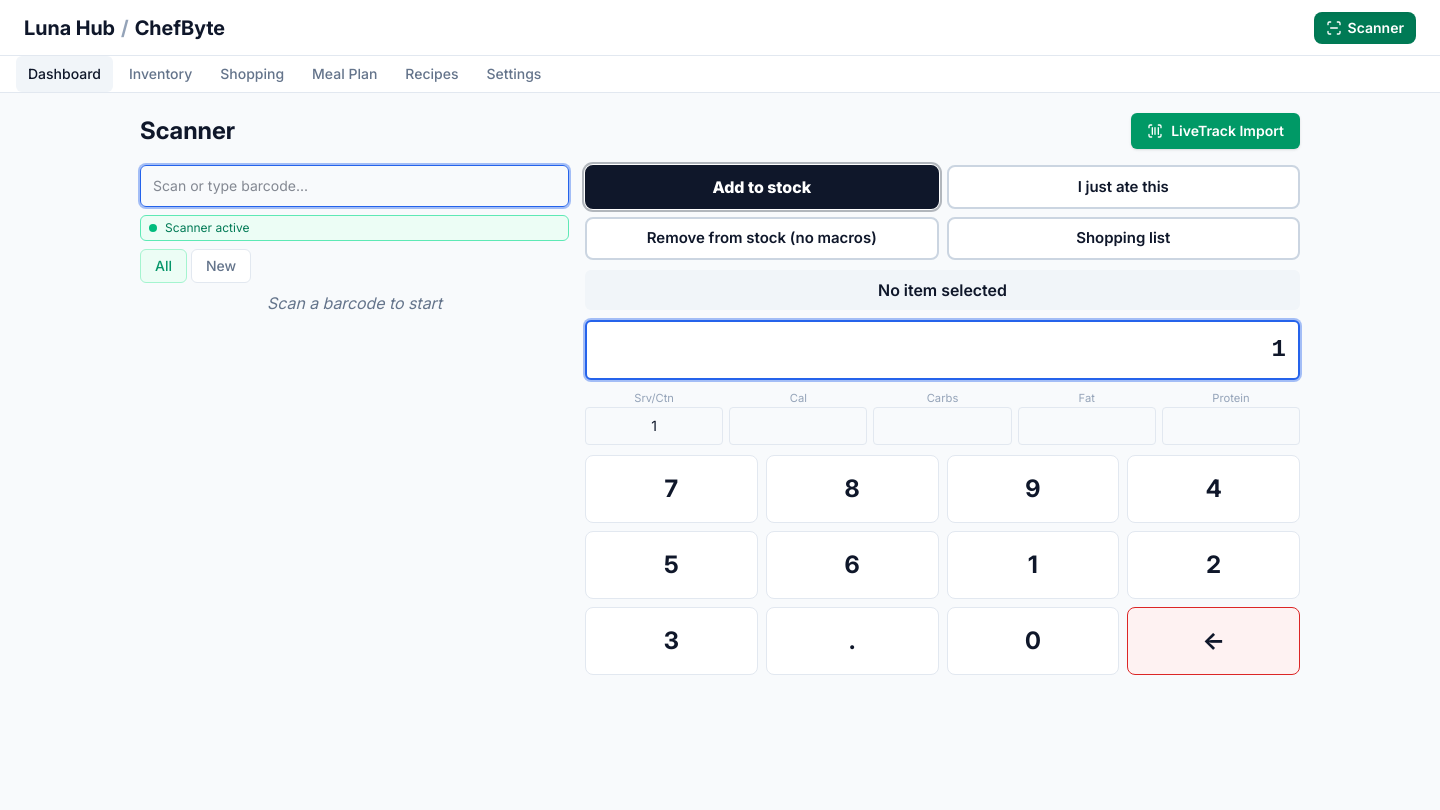
Scanner — first-scan location-race (Bug A) › scan after locations resolve picks up locationId via re-memoized useCallback
Step 1. Type "856312002795" into the field with test id "barcode-input" → (354, 186), box [140,165,569,207]
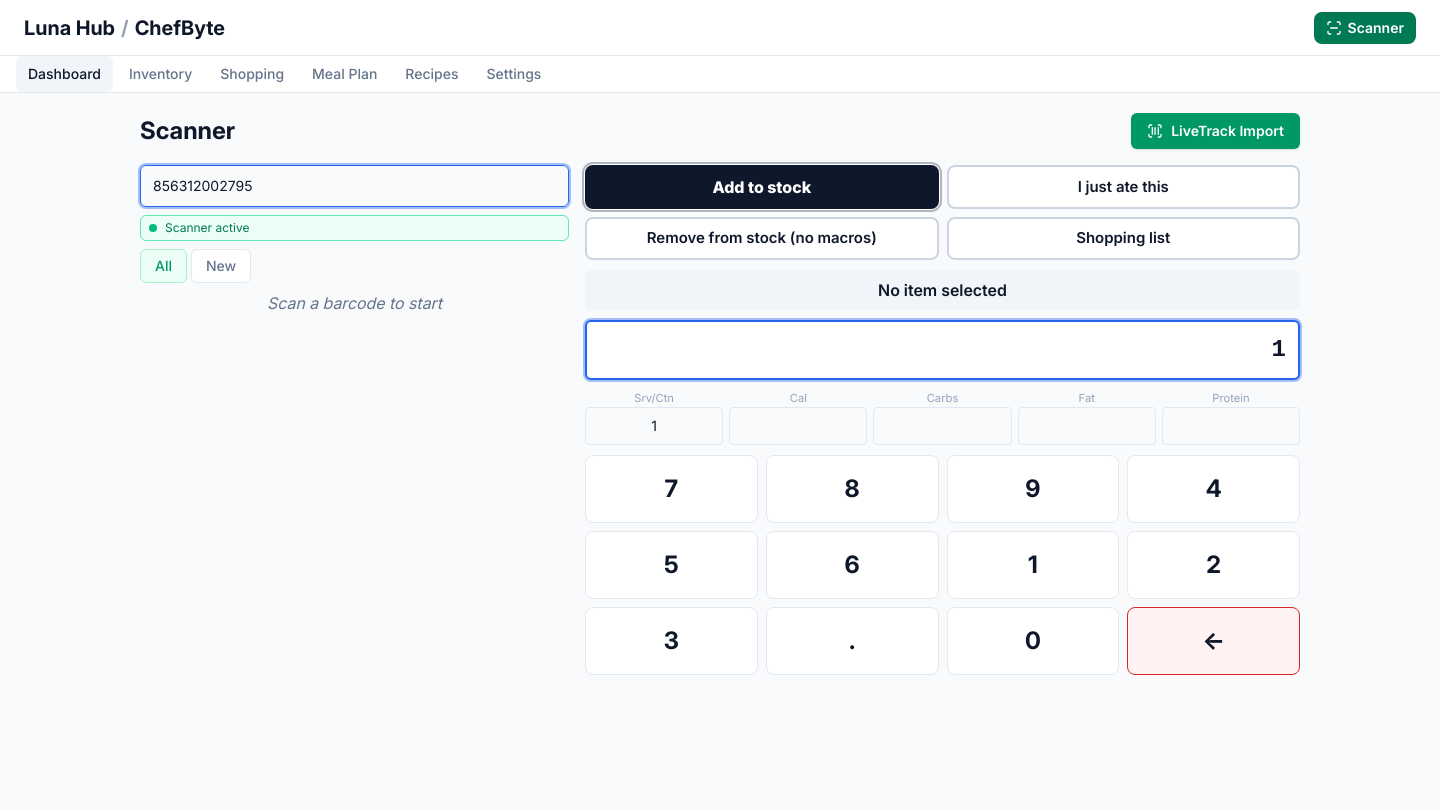
Step 2. Press Enter
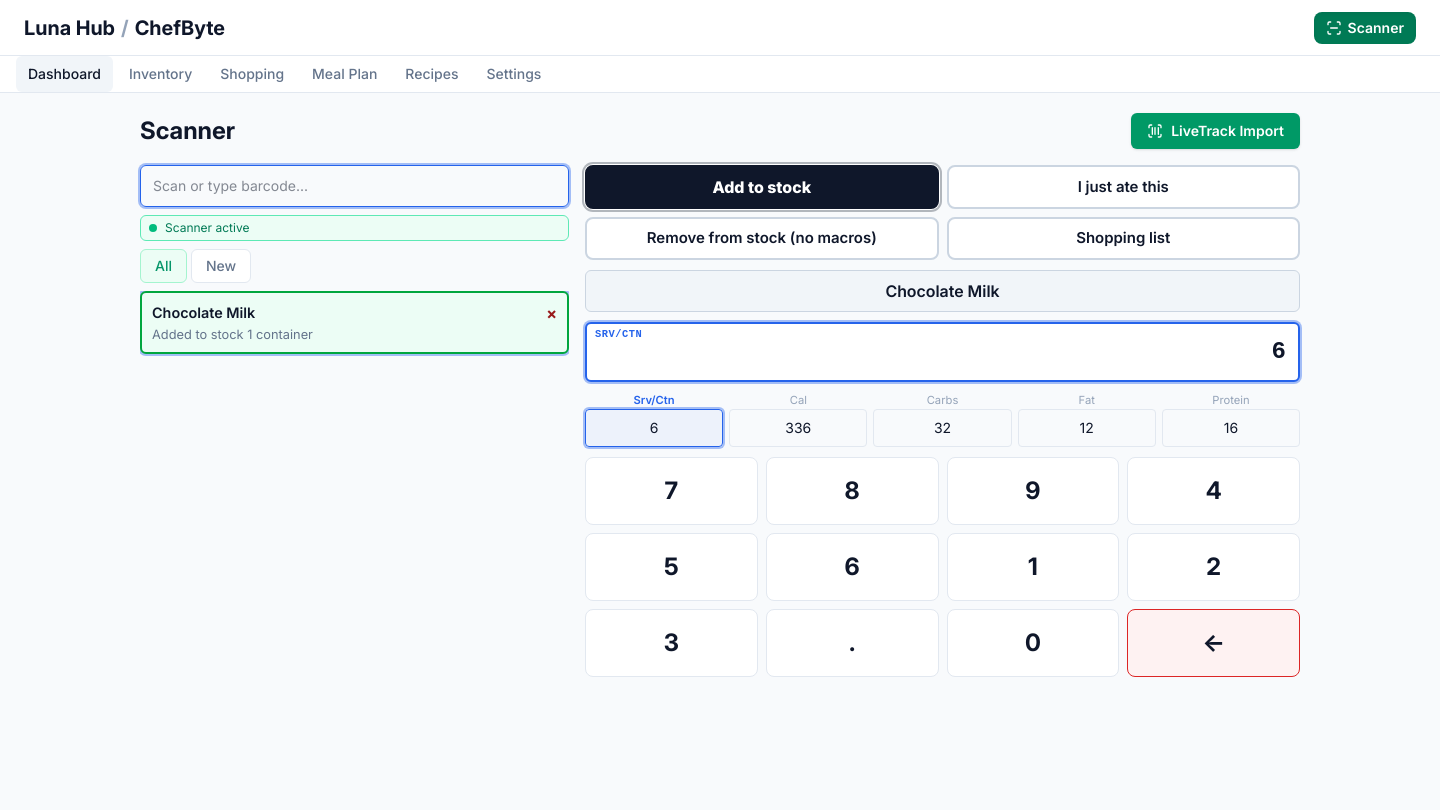
Check: the element with test id "^queue-item-" is shown, box [140,291,569,354]
